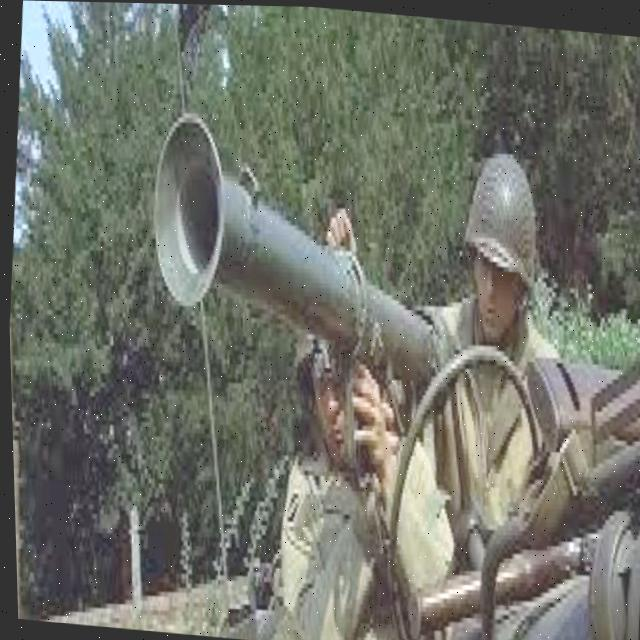rocket: (129, 83, 458, 400)
